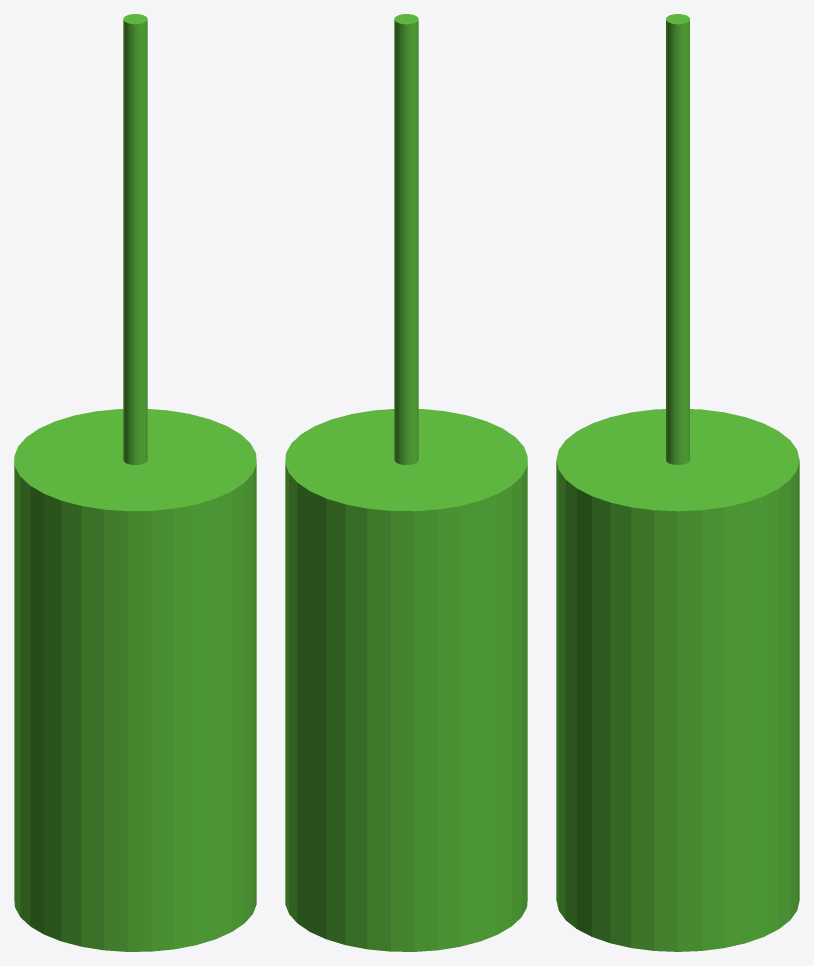
Rendered from anchorResolved.glb.
3 renders of one model, left to right at view 1: azimuth 30°, elevation 25°; view 2: azimuth 150°, elevation 25°; view 3: azimuth 270°, elevation 25°, orthographic.
Visible parts, largest first — view 1: Cylinder, Cylinder.001; view 2: Cylinder, Cylinder.001; view 3: Cylinder, Cylinder.001.
Part boxes in pixels (x1,y1,x2,y2): Cylinder: (14, 409, 256, 951); Cylinder.001: (123, 14, 147, 464); Cylinder: (285, 409, 527, 951); Cylinder.001: (394, 14, 418, 464); Cylinder: (556, 409, 799, 951); Cylinder.001: (666, 14, 689, 464).
Bounding box in the file's own units: 0.2 × 0.8 × 0.2.
